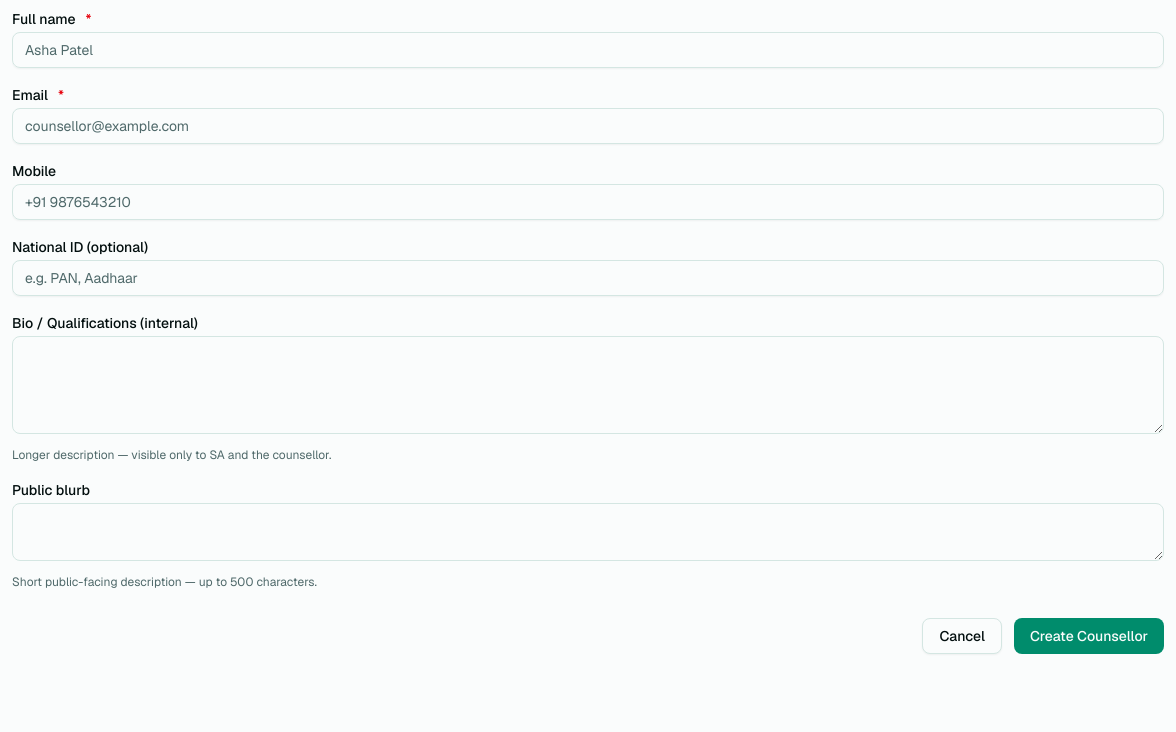
CounsellorCreateForm › shows validation error when name is too short
This screenshot has width=1176, height=732.
Type "bad@email" into the field with placeholder "counsellor@example.com".
click(588, 126); type("bad@email")  # box [12,108,1164,144]
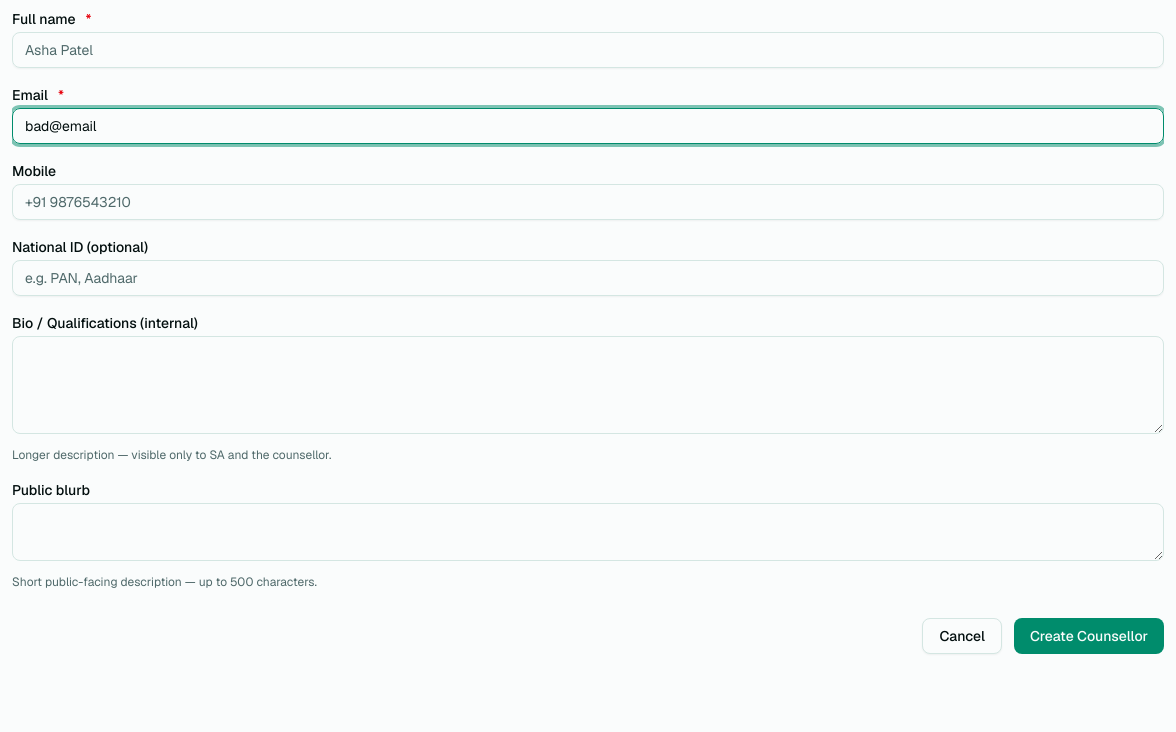
Submit the form named "Create Counsellor"
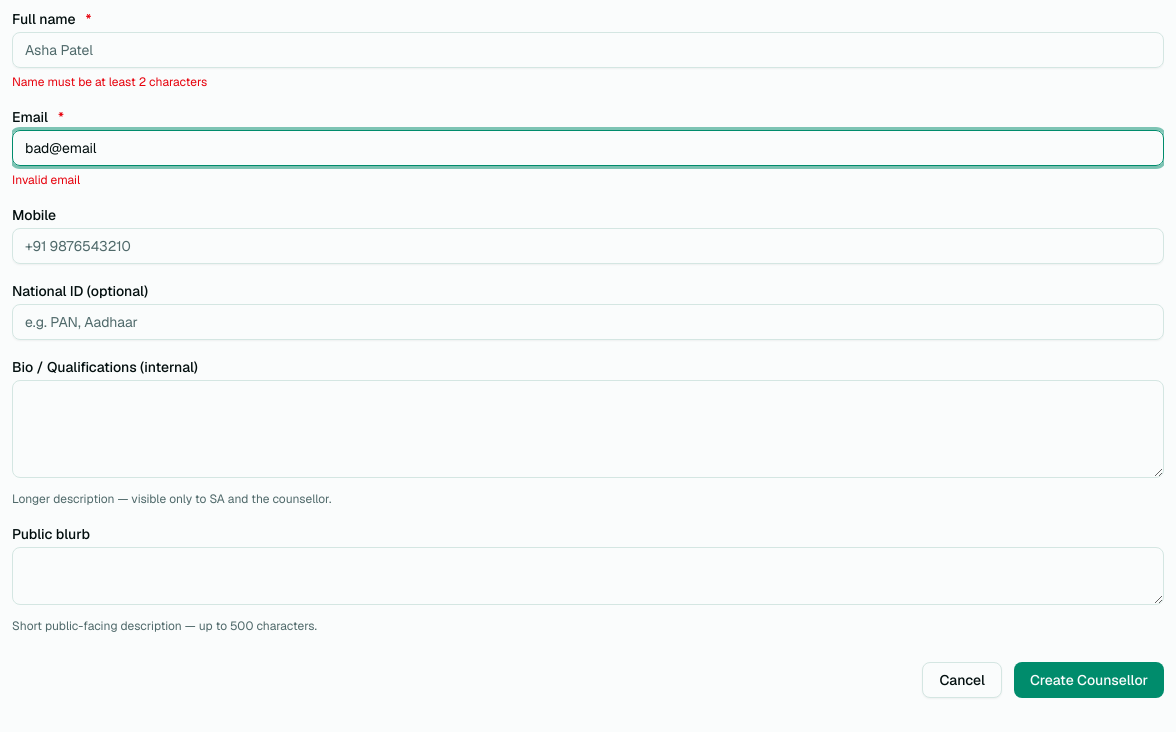
Expected: the text "Name must be at least 2 characters" is shown, [12,74,207,90]
